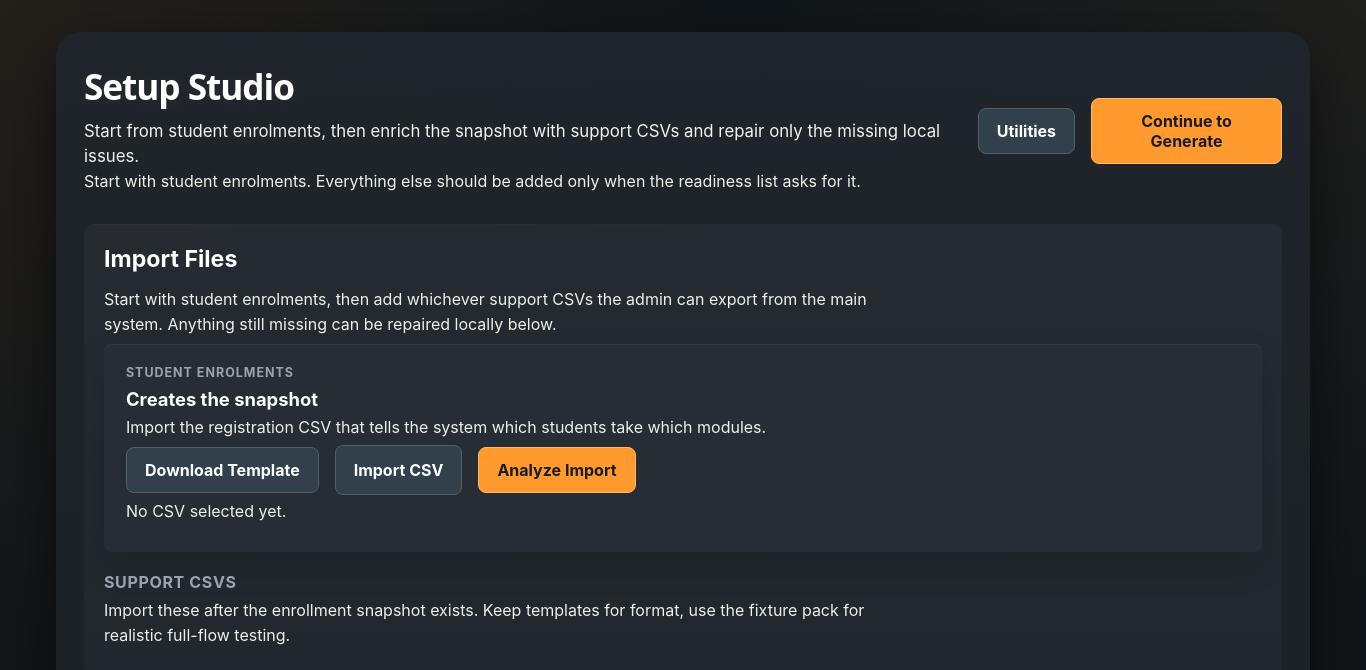
Test: SetupStudio › lists room-related session blockers in the targeted repair queue
Click the button "Utilities". click: [1026, 131]
box: [978, 108, 1075, 154]
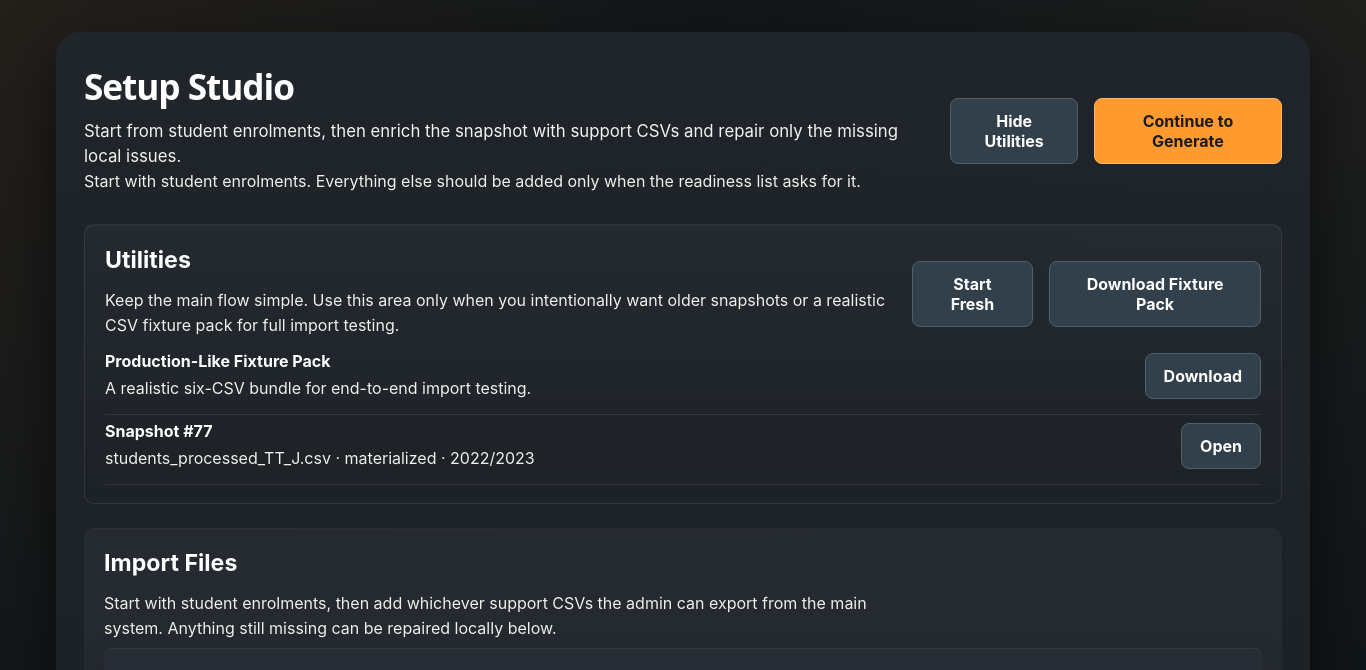
Click the button "Open". click: [1221, 446]
box: [1181, 422, 1261, 468]
(page scrolled)
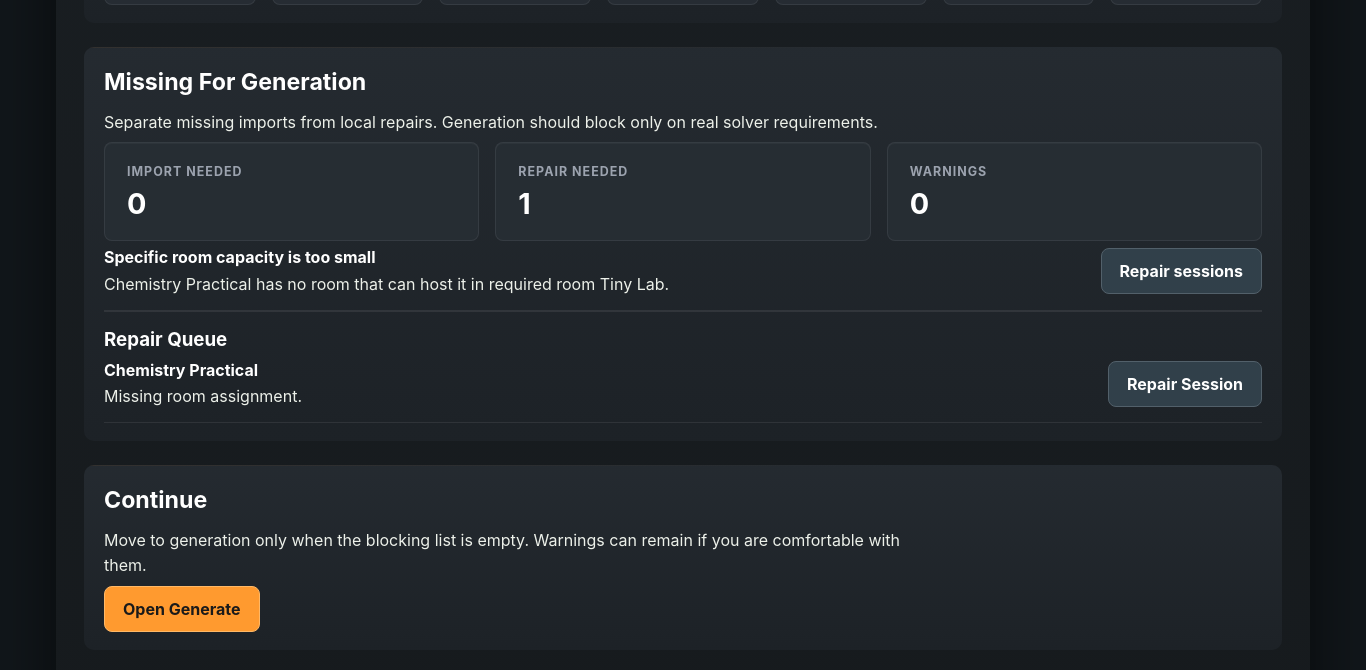
expect the text "Chemistry Practical" is shown: met, box [104, 360, 258, 380]
expect the text "Missing room assignment." is shown: met, box [104, 386, 302, 406]
expect the button "Repair Session" is shown: met, box [1108, 361, 1262, 407]
